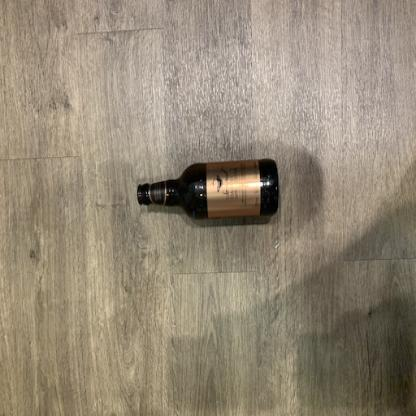trash: (137, 158, 277, 222)
